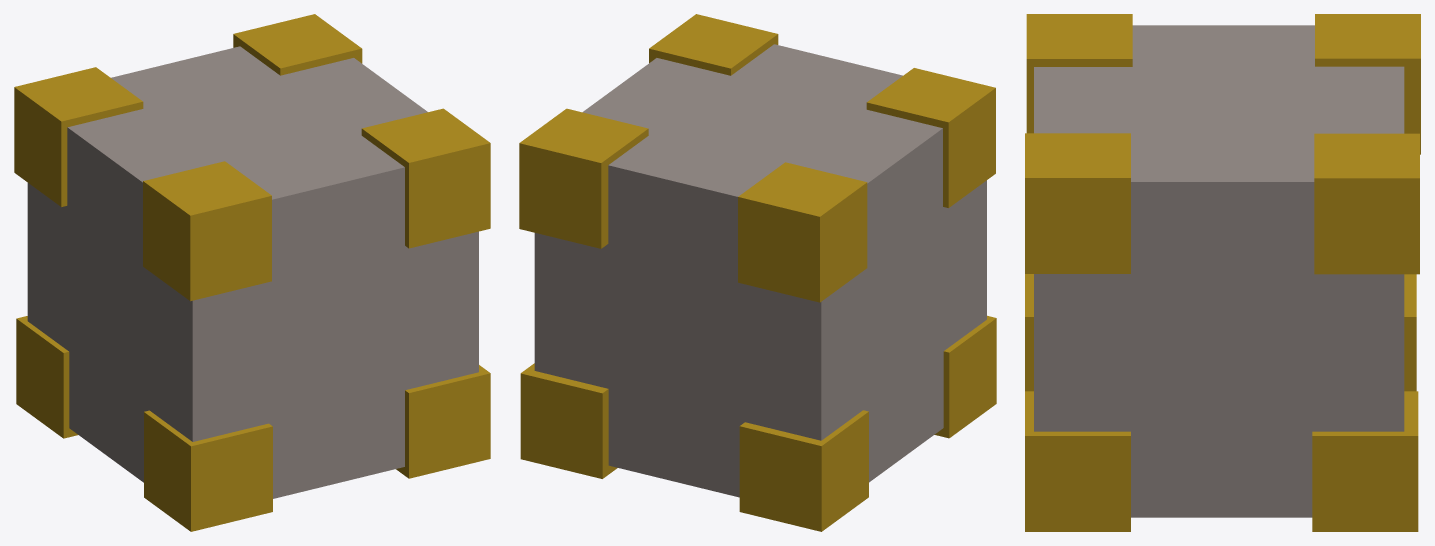
The picture shows the model from 3 angles, left to right: view 1: azimuth 30°, elevation 25°; view 2: azimuth 150°, elevation 25°; view 3: azimuth 270°, elevation 25°; orthographic projection. The views are drawn at different scales.
Visible parts, largest first — view 1: Cube, Cube.003, Cube.004, Cube.002, Cube.008, Cube.005, Cube.007, Cube.001; view 2: Cube, Cube.008, Cube.007, Cube.001, Cube.003, Cube.006, Cube.004, Cube.002; view 3: Cube, Cube.001, Cube.002, Cube.006, Cube.005, Cube.008, Cube.003, Cube.007, Cube.004.
Part boxes in pixels (x1,y1,x2,y2): Cube: [27, 46, 478, 498]; Cube.003: [143, 161, 271, 301]; Cube.004: [144, 410, 272, 531]; Cube.002: [361, 108, 490, 248]; Cube.008: [14, 67, 143, 206]; Cube.005: [396, 365, 490, 478]; Cube.007: [16, 316, 77, 438]; Cube.001: [233, 14, 362, 75]; Cube: [534, 44, 986, 497]; Cube.008: [738, 162, 867, 302]; Cube.007: [739, 410, 868, 531]; Cube.001: [519, 108, 648, 248]; Cube.003: [866, 68, 995, 207]; Cube.006: [520, 363, 617, 478]; Cube.004: [934, 315, 996, 438]; Cube.002: [649, 14, 778, 75]; Cube: [1034, 25, 1404, 517]; Cube.001: [1314, 133, 1419, 274]; Cube.002: [1025, 133, 1130, 273]; Cube.006: [1312, 391, 1418, 531]; Cube.005: [1025, 391, 1130, 531]; Cube.008: [1315, 14, 1420, 154]; Cube.003: [1026, 14, 1132, 133]; Cube.007: [1404, 274, 1416, 391]; Cube.004: [1025, 274, 1033, 391].
Size of the model in its own units: 22.39 by 22.49 by 22.79.
